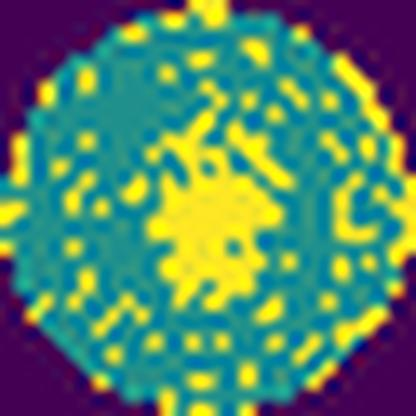Center: (145, 93, 297, 314)
